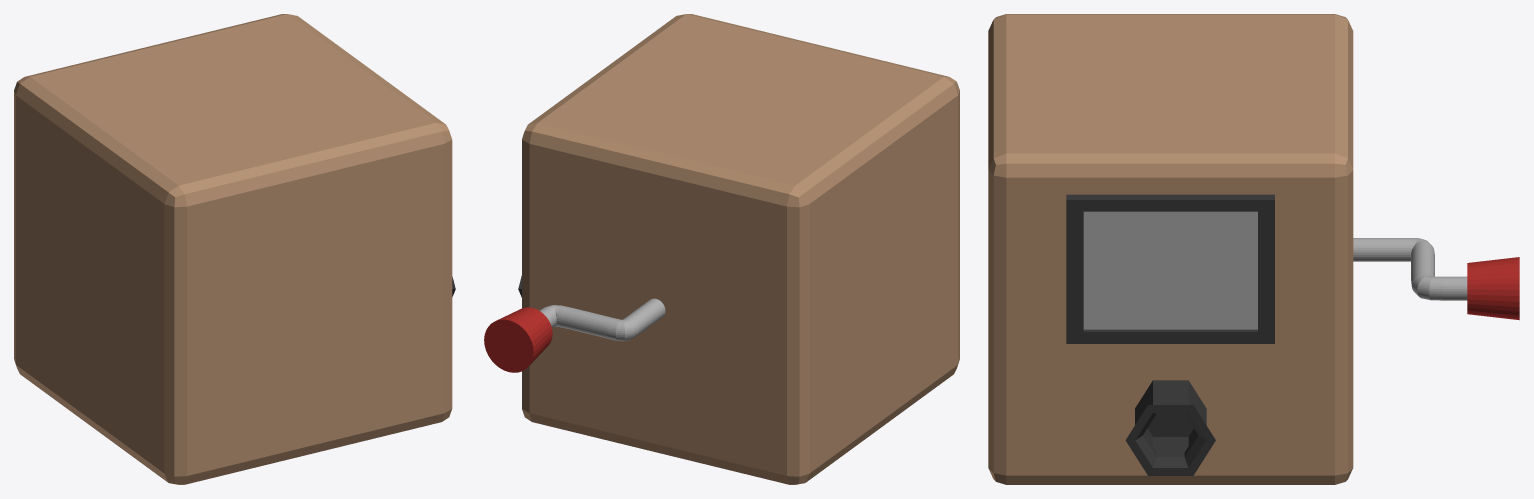
The model's file is generator.fbx.
3 views of the same model, side by side, from view 1: azimuth 30°, elevation 25°; view 2: azimuth 150°, elevation 25°; view 3: azimuth 270°, elevation 25° (orthographic). The views are drawn at different scales.
Visible parts, largest first — view 1: Cube; view 2: Cube, Cylinder; view 3: Cube, Cube.001, Cylinder, Cylinder.001.
Part boxes in pixels (x1,y1,x2,y2): Cube: (14, 14, 452, 484); Cube: (522, 14, 959, 484); Cylinder: (484, 298, 665, 372); Cube: (988, 14, 1353, 484); Cube.001: (1066, 194, 1274, 343); Cylinder: (1353, 238, 1519, 320); Cylinder.001: (1125, 380, 1215, 475).
Bounding box in the file's own units: 241 × 200 × 291.
